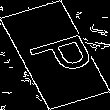P_E: (15, 29, 95, 81)
